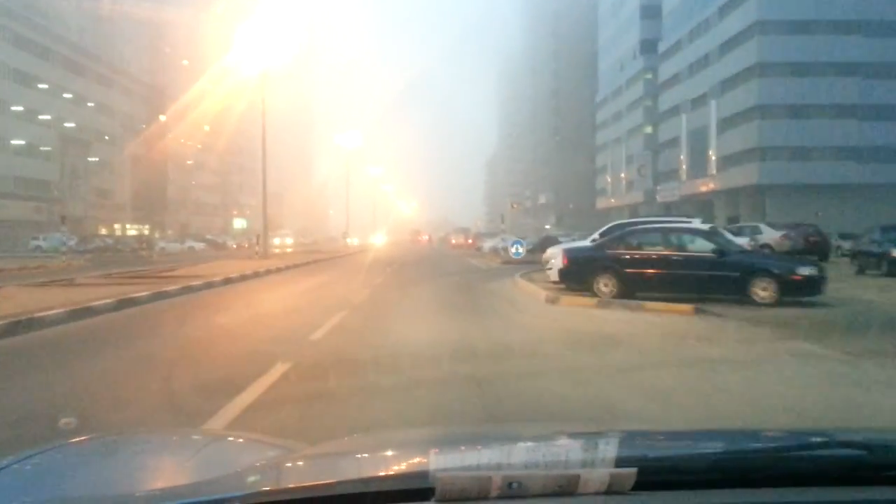car: (555, 226, 830, 306), (536, 215, 757, 291), (693, 217, 793, 262), (773, 219, 834, 265), (849, 219, 896, 277), (75, 229, 143, 258), (25, 228, 74, 256), (827, 228, 868, 258), (153, 236, 208, 257), (477, 233, 523, 252), (269, 230, 297, 253), (448, 226, 474, 248), (409, 228, 427, 244)
